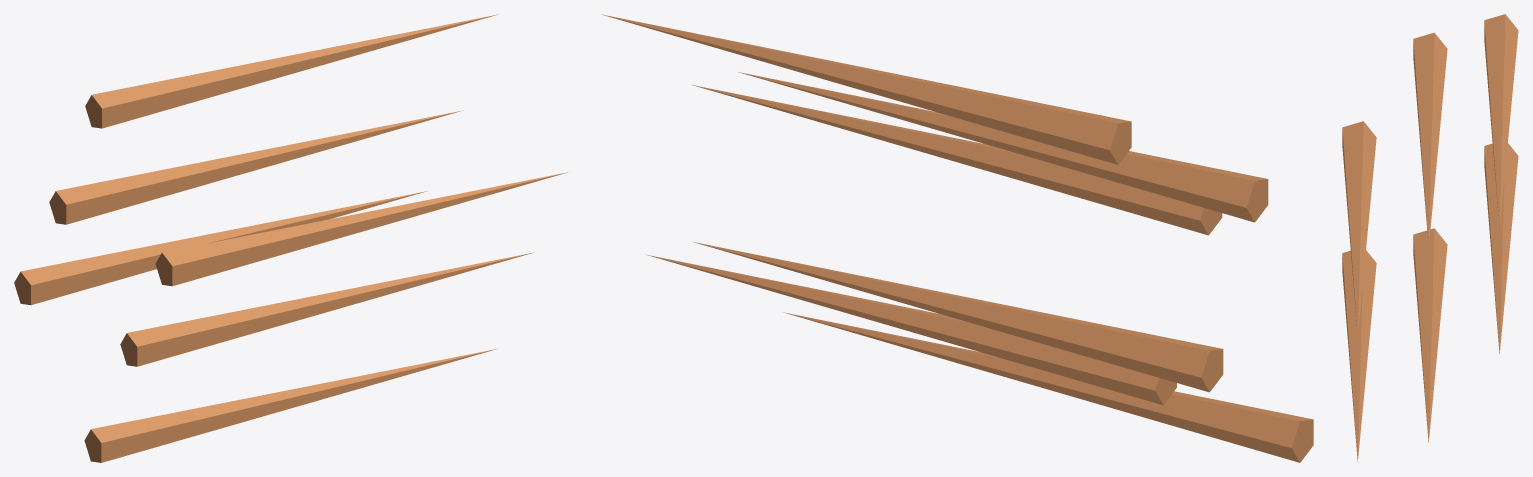
File: item_081_copper_needle_l.glb
The picture shows the model from 3 angles, left to right: view 1: azimuth 30°, elevation 25°; view 2: azimuth 150°, elevation 25°; view 3: azimuth 270°, elevation 25°; orthographic projection. The views are drawn at different scales.
Parts seen in each view (by area): view 1: item_081_copper_needle_l; view 2: item_081_copper_needle_l; view 3: item_081_copper_needle_l.
Part boxes in pixels (box(x1,y1,x2,y2)): item_081_copper_needle_l: box(14, 14, 567, 462); item_081_copper_needle_l: box(601, 14, 1313, 462); item_081_copper_needle_l: box(1342, 14, 1518, 461).
Size of the model in its own units: 0.47 by 0.2804 by 0.1489.
